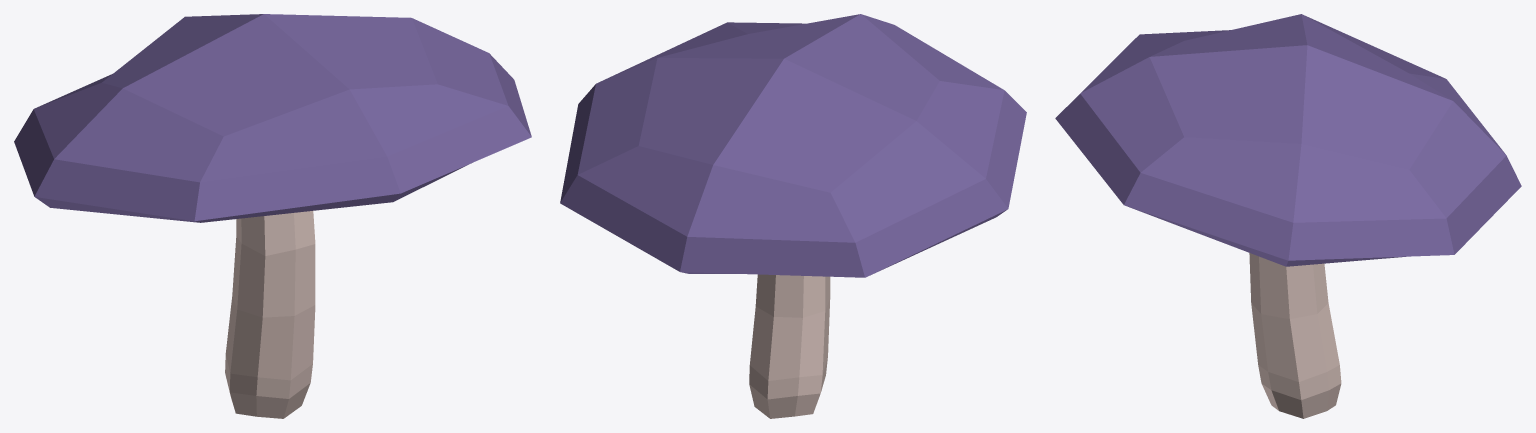
File: MUSH_UMBRELLASMALL_PURP.fbx
3 renders of one model, left to right at view 1: azimuth 30°, elevation 25°; view 2: azimuth 150°, elevation 25°; view 3: azimuth 270°, elevation 25°, orthographic. The views are drawn at different scales.
Visible parts, largest first — view 1: pCube17, pCube18; view 2: pCube17, pCube18; view 3: pCube17, pCube18.
Boxes of the visible parts, bbox=[...] form: pCube17: bbox=[14, 14, 531, 222]; pCube18: bbox=[225, 211, 315, 418]; pCube17: bbox=[560, 14, 1026, 277]; pCube18: bbox=[749, 274, 830, 418]; pCube17: bbox=[1055, 14, 1521, 266]; pCube18: bbox=[1249, 253, 1341, 418].
Size of the model in its own units: 11.83 by 9.36 by 10.8.
